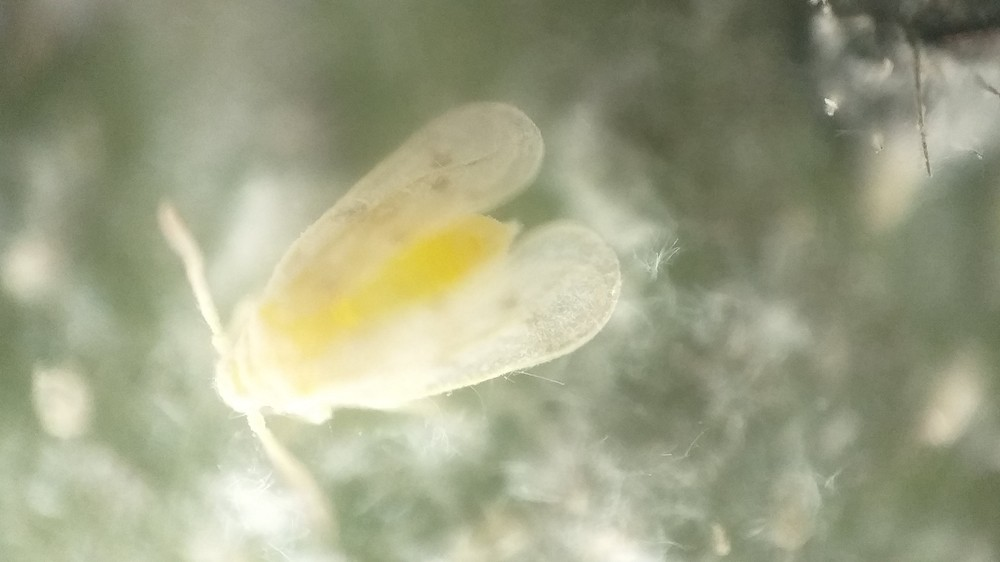Mosca Blanca: (145, 99, 648, 553)
